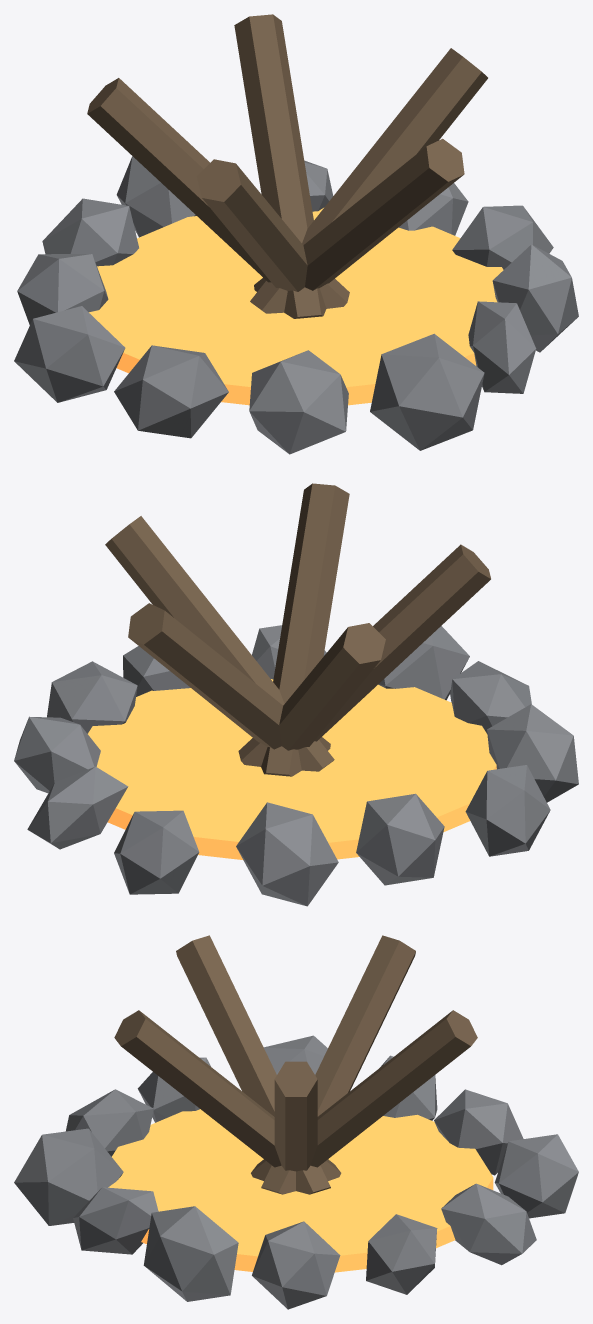
Rendered from campfire.glb.
3 renders of one model, top to bottom at view 1: azimuth 30°, elevation 25°; view 2: azimuth 150°, elevation 25°; view 3: azimuth 270°, elevation 25°, orthographic. The views are drawn at different scales.
Visible parts, largest first — view 1: CoalBed, Log1, Stone9, Log0, Log4, Log2, Stone8, Stone7, Stone6, Log3, Stone11, Stone10 (+6 smaller); view 2: CoalBed, Log4, Log0, Log1, Log3, Stone4, Log2, Stone5, Stone3, Stone6, Stone7, Stone2 (+6 smaller); view 3: CoalBed, Log1, Log4, Log3, Log2, Stone11, Stone9, Stone0, Stone3, Stone2, Log0, Stone10 (+6 smaller).
Part boxes in pixels (x1=…): CoalBed: x1=89, y1=208, x2=503, y2=405; Log1: x1=234, y1=14, x2=326, y2=318; Stone9: x1=370, y1=333, x2=484, y2=450; Log0: x1=250, y1=48, x2=487, y2=313; Log4: x1=254, y1=138, x2=464, y2=291; Log2: x1=87, y1=78, x2=349, y2=308; Stone8: x1=249, y1=350, x2=348, y2=454; Stone7: x1=114, y1=345, x2=228, y2=438; Stone6: x1=14, y1=306, x2=125, y2=402; Log3: x1=196, y1=159, x2=307, y2=291; Stone11: x1=492, y1=244, x2=578, y2=352; Stone10: x1=468, y1=301, x2=536, y2=393; CoalBed: x1=88, y1=679, x2=496, y2=859; Log4: x1=261, y1=483, x2=349, y2=776; Log0: x1=105, y1=516, x2=334, y2=771; Log1: x1=128, y1=603, x2=330, y2=750; Log3: x1=238, y1=544, x2=490, y2=766; Stone4: x1=236, y1=802, x2=338, y2=906; Log2: x1=279, y1=623, x2=385, y2=750; Stone5: x1=356, y1=793, x2=444, y2=885; Stone3: x1=114, y1=810, x2=199, y2=894; Stone6: x1=465, y1=765, x2=550, y2=856; Stone7: x1=487, y1=704, x2=578, y2=802; Stone2: x1=27, y1=766, x2=128, y2=849; CoalBed: x1=108, y1=1109, x2=493, y2=1272; Log1: x1=251, y1=1010, x2=477, y2=1180; Log4: x1=114, y1=1010, x2=341, y2=1180; Log3: x1=176, y1=935, x2=330, y2=1194; Log2: x1=261, y1=935, x2=415, y2=1194; Stone11: x1=143, y1=1206, x2=238, y2=1301; Stone9: x1=14, y1=1128, x2=123, y2=1225; Stone0: x1=252, y1=1221, x2=340, y2=1309; Stone3: x1=494, y1=1134, x2=578, y2=1218; Stone2: x1=441, y1=1183, x2=536, y2=1265; Log0: x1=274, y1=1061, x2=317, y2=1171; Stone10: x1=73, y1=1187, x2=158, y2=1254.
Size of the model in its own units: 2.93 by 1.42 by 3.15.
